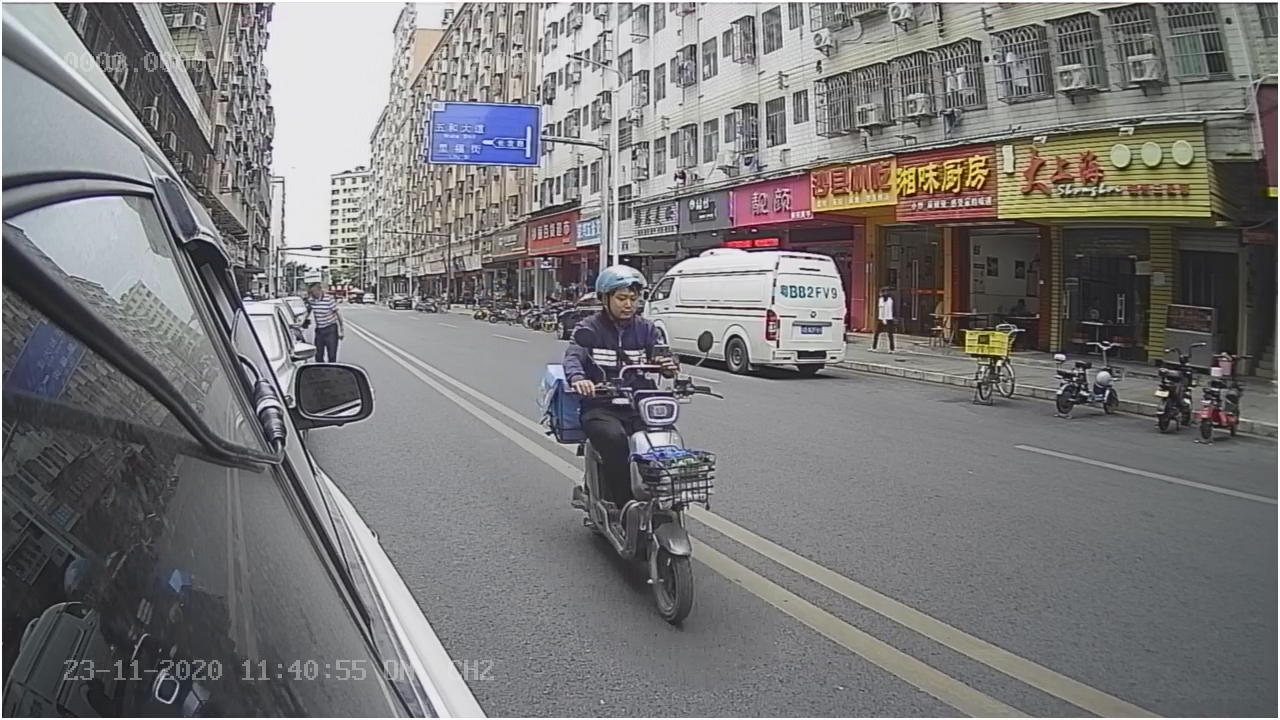person: (565, 262, 679, 376)
